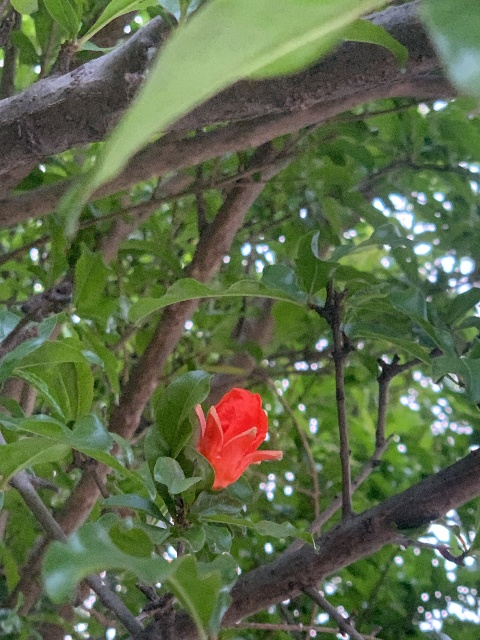flower: (193, 386, 282, 491)
